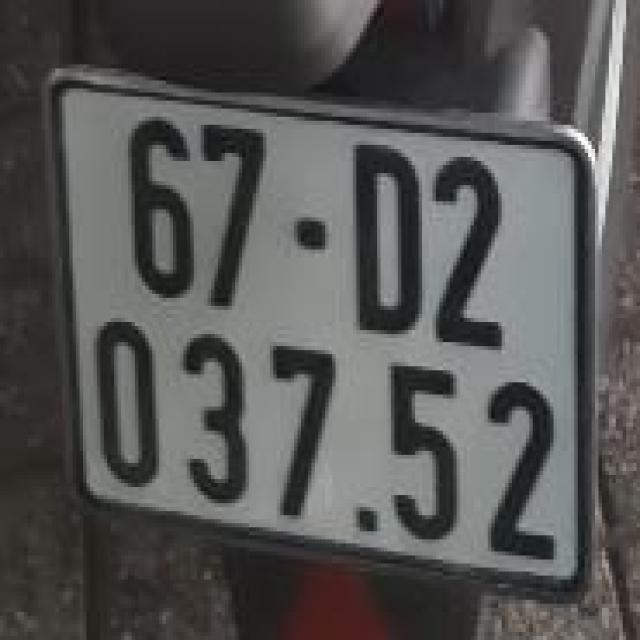0: (76, 316, 170, 501)
2: (476, 360, 572, 570), (431, 143, 510, 352)
3: (176, 326, 252, 519)
5: (384, 346, 467, 556)
6: (116, 113, 202, 302)
7: (256, 330, 342, 535), (197, 111, 270, 320)
D: (340, 119, 430, 348)
